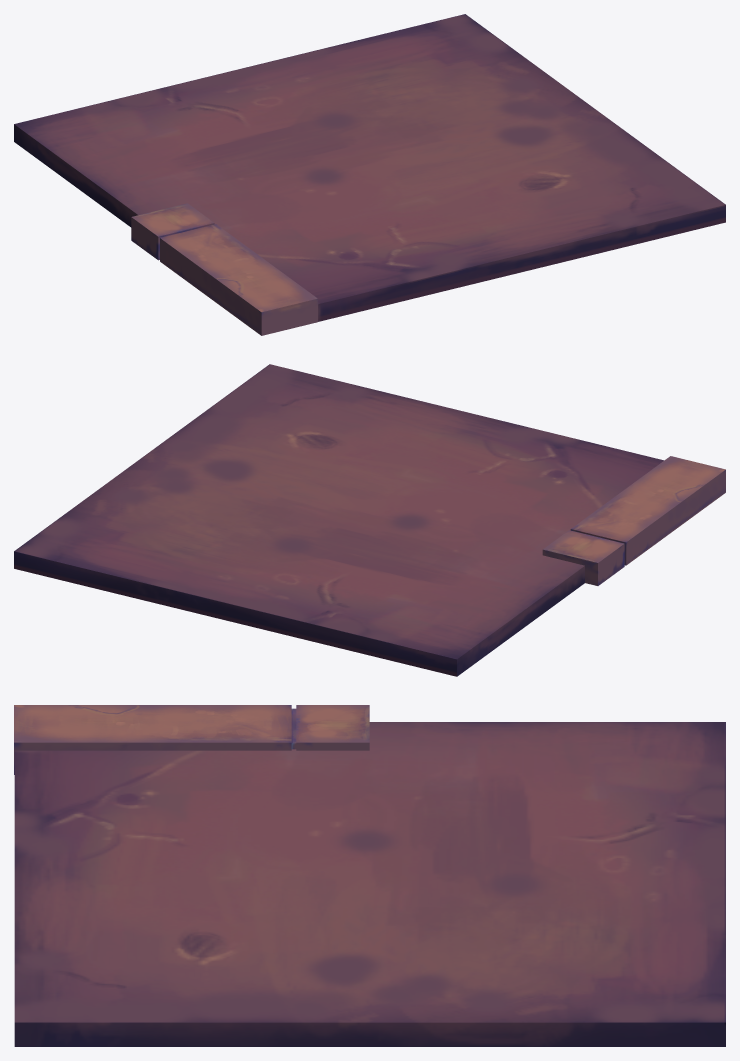
File: Floor.fbx
The picture shows the model from 3 angles, top to bottom: view 1: azimuth 30°, elevation 25°; view 2: azimuth 150°, elevation 25°; view 3: azimuth 270°, elevation 25°; orthographic projection. The views are drawn at different scales.
Visible parts, largest first — view 1: CalcadaTile, paralelepppipedo; view 2: CalcadaTile, paralelepppipedo; view 3: CalcadaTile, paralelepppipedo.
Boxes of the visible parts, x1=… form: CalcadaTile: x1=14, y1=14, x2=725, y2=321; paralelepppipedo: x1=131, y1=203, x2=317, y2=335; CalcadaTile: x1=14, y1=364, x2=663, y2=676; paralelepppipedo: x1=542, y1=456, x2=725, y2=585; CalcadaTile: x1=14, y1=722, x2=725, y2=1046; paralelepppipedo: x1=14, y1=705, x2=369, y2=774.
Size of what is drawn, in the model's own units: 412 by 20 by 400.
